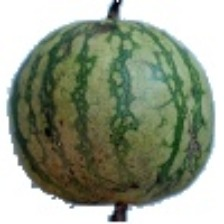watermelon: (30, 13, 218, 185)
